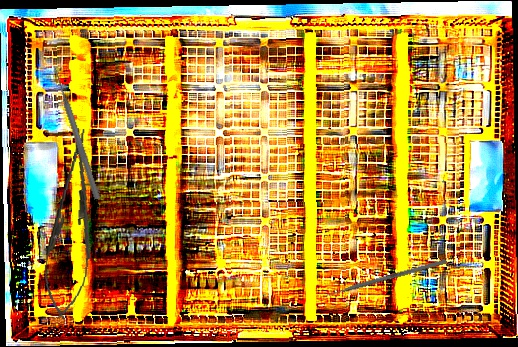Needle Holder: (39, 126, 104, 321)
Pusher: (51, 66, 102, 201), (315, 258, 448, 301)
